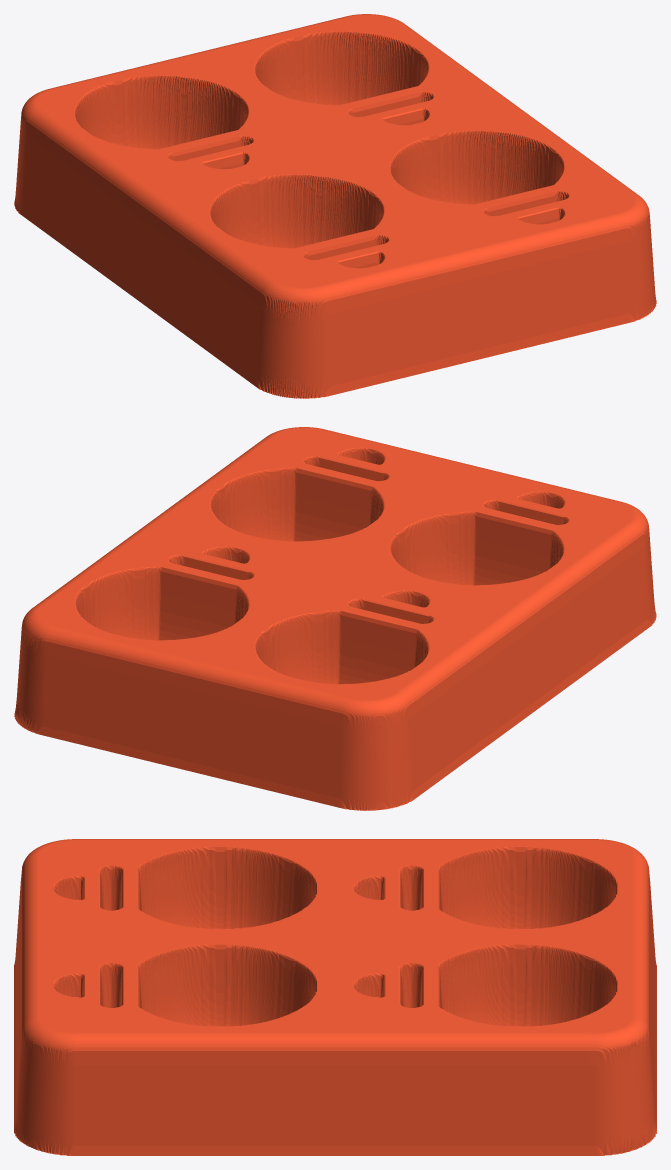
The model's file is mold.glb.
3 views of the same model, one above another, from view 1: azimuth 30°, elevation 25°; view 2: azimuth 150°, elevation 25°; view 3: azimuth 270°, elevation 25° (orthographic). The views are drawn at different scales.
Visible parts, largest first — view 1: geometry_0; view 2: geometry_0; view 3: geometry_0.
Boxes of the visible parts, box(x1,y1,x2,y2) form: geometry_0: box(14, 14, 656, 398); geometry_0: box(14, 427, 656, 810); geometry_0: box(14, 839, 656, 1155).
Bounding box in the file's own units: 0.0738 × 0.0182 × 0.0942.
